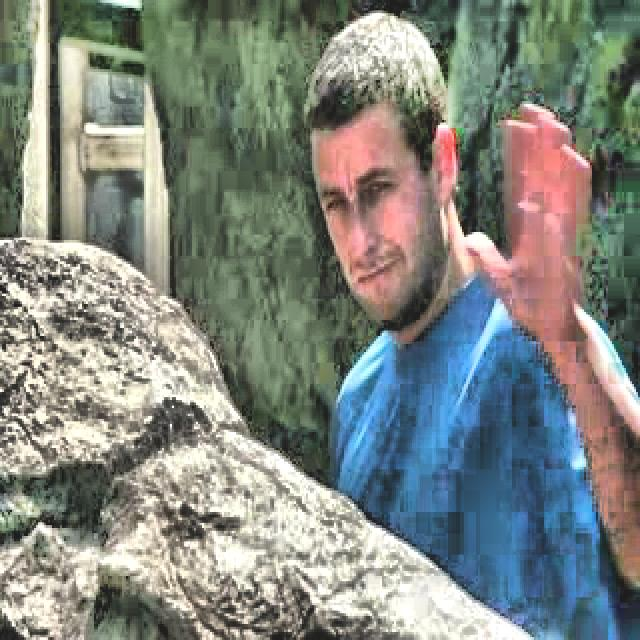L: (292, 3, 640, 640)
